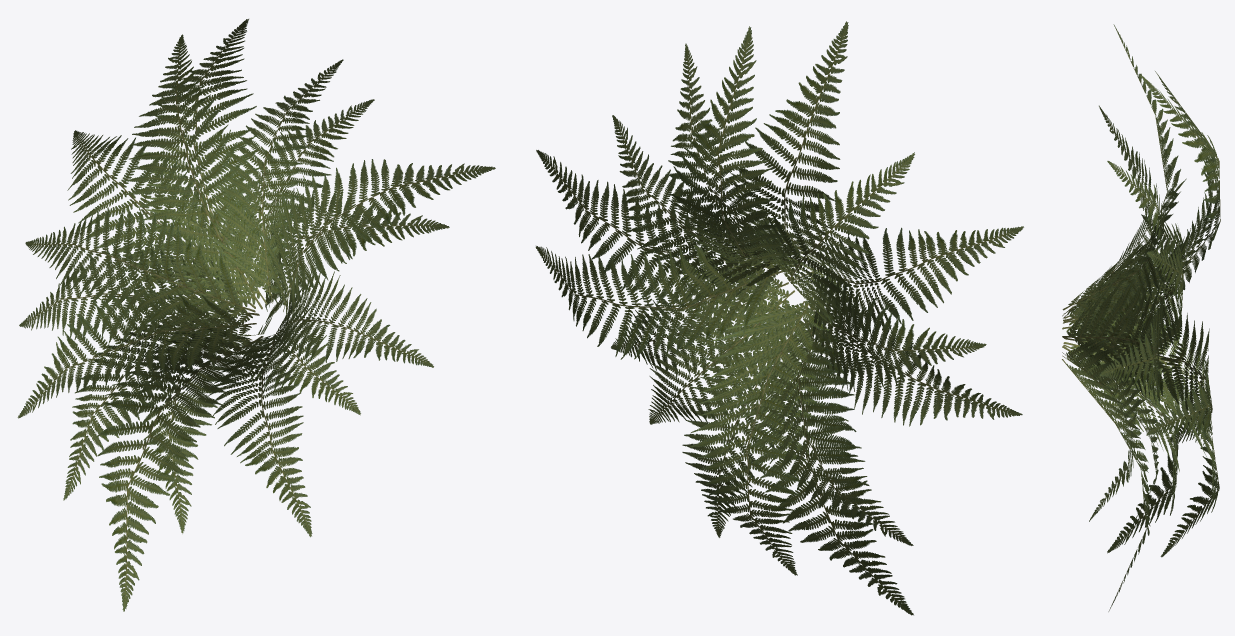
Rendered from Fern01_Terrain.FBX.
3 renders of one model, left to right at view 1: azimuth 30°, elevation 25°; view 2: azimuth 150°, elevation 25°; view 3: azimuth 270°, elevation 25°, orthographic. The views are drawn at different scales.
Visible parts, largest first — view 1: Fern001; view 2: Fern001; view 3: Fern001.
Boxes of the visible parts, x1,y1,x2,y2 form: Fern001: (17,19,495,611); Fern001: (535,21,1023,615); Fern001: (1062,24,1220,611).
Bounding box in the file's own units: 13.68 × 15.51 × 3.91.
